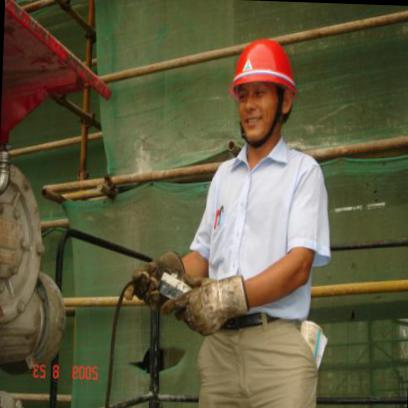helmet: (226, 36, 301, 99)
